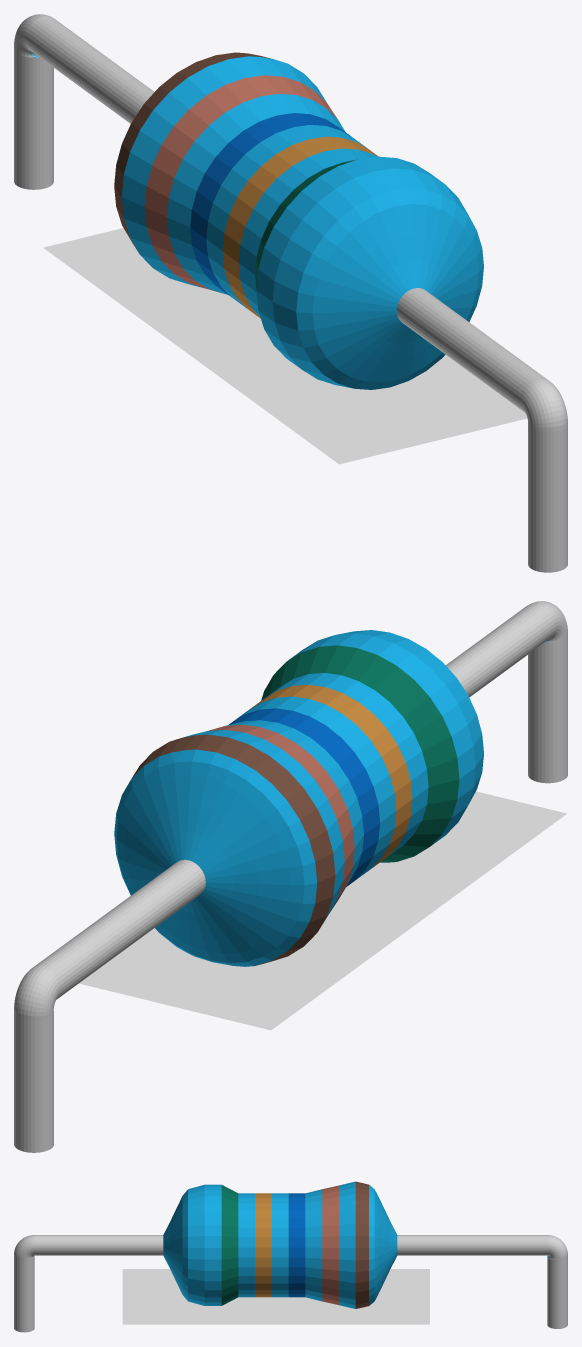
The model's file is R1_blue_2.gltf.
The picture shows the model from 3 angles, top to bottom: view 1: azimuth 30°, elevation 25°; view 2: azimuth 150°, elevation 25°; view 3: azimuth 270°, elevation 25°; orthographic projection. The views are drawn at different scales.
Visible parts, largest first — view 1: R1_blue_2, R1_blue_2_plane; view 2: R1_blue_2, R1_blue_2_plane; view 3: R1_blue_2, R1_blue_2_plane.
Boxes of the visible parts, x1,y1,x2,y2 form: R1_blue_2: (14, 14, 567, 572); R1_blue_2_plane: (43, 228, 527, 464); R1_blue_2: (14, 601, 567, 1152); R1_blue_2_plane: (79, 791, 566, 1030); R1_blue_2: (14, 1181, 567, 1332); R1_blue_2_plane: (122, 1269, 429, 1324).
Size of the model in its own units: 0.0161 by 0.0189 by 0.0676.
